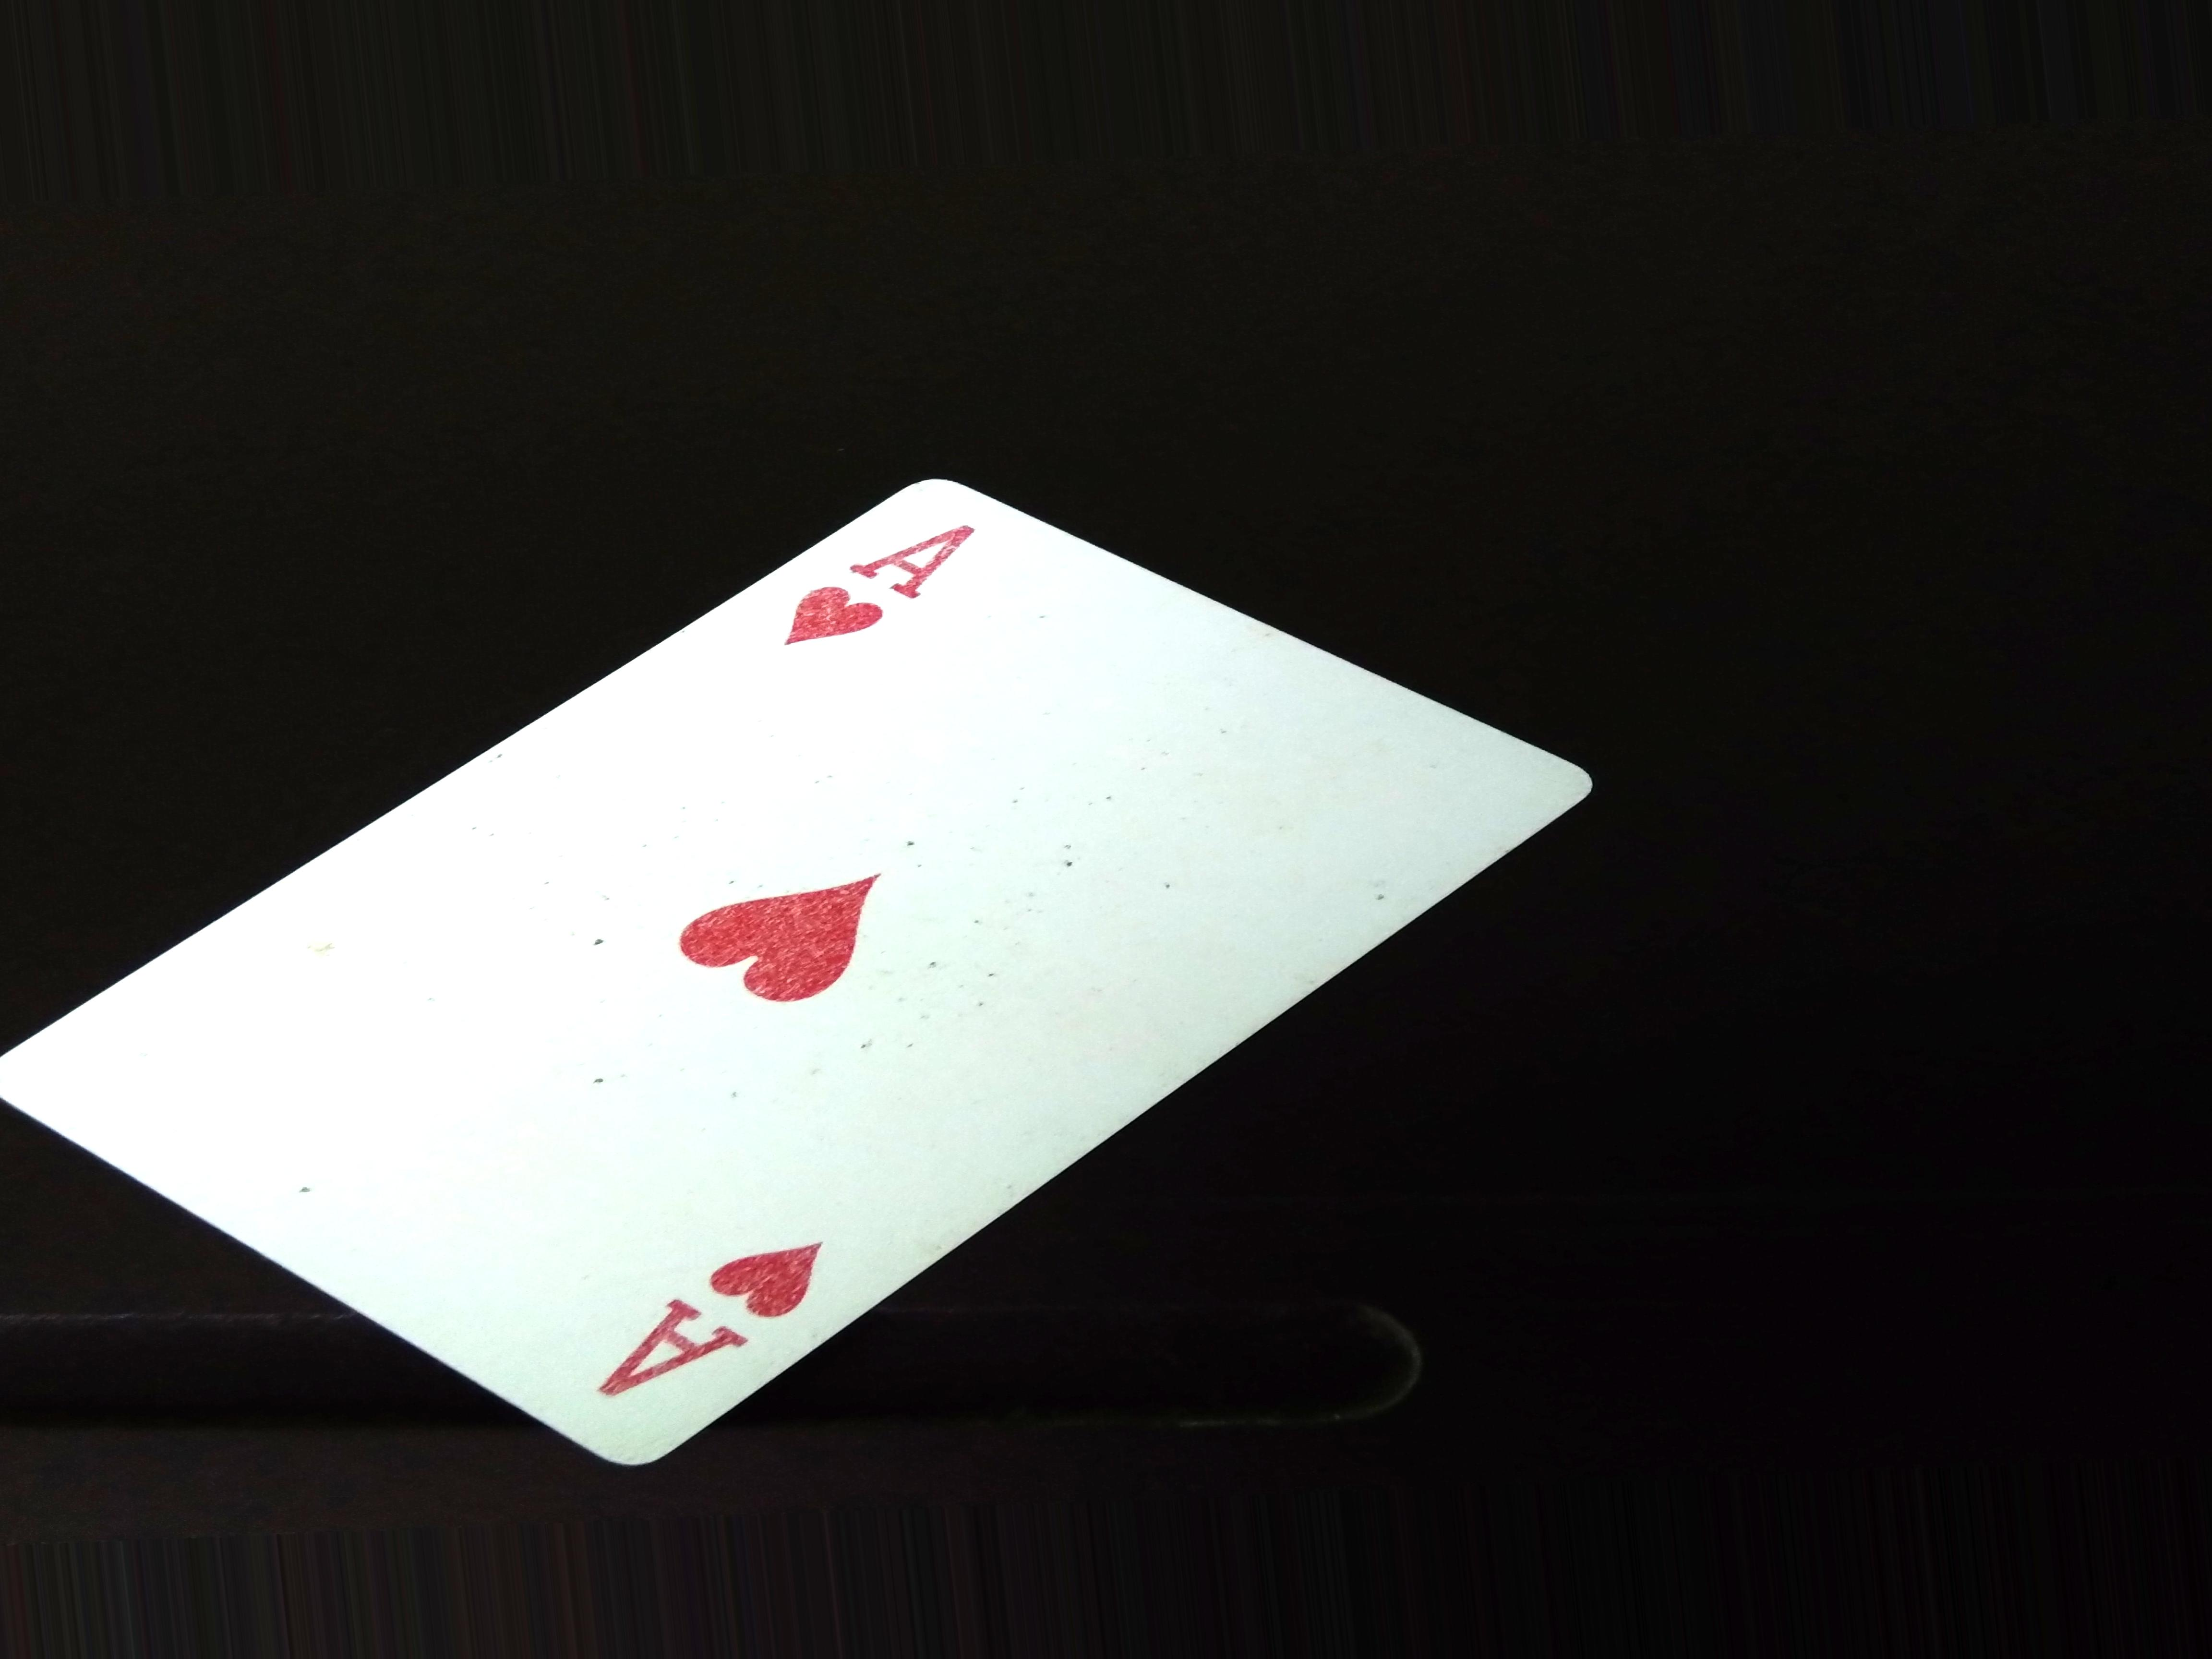AH: (775, 502, 984, 662)
